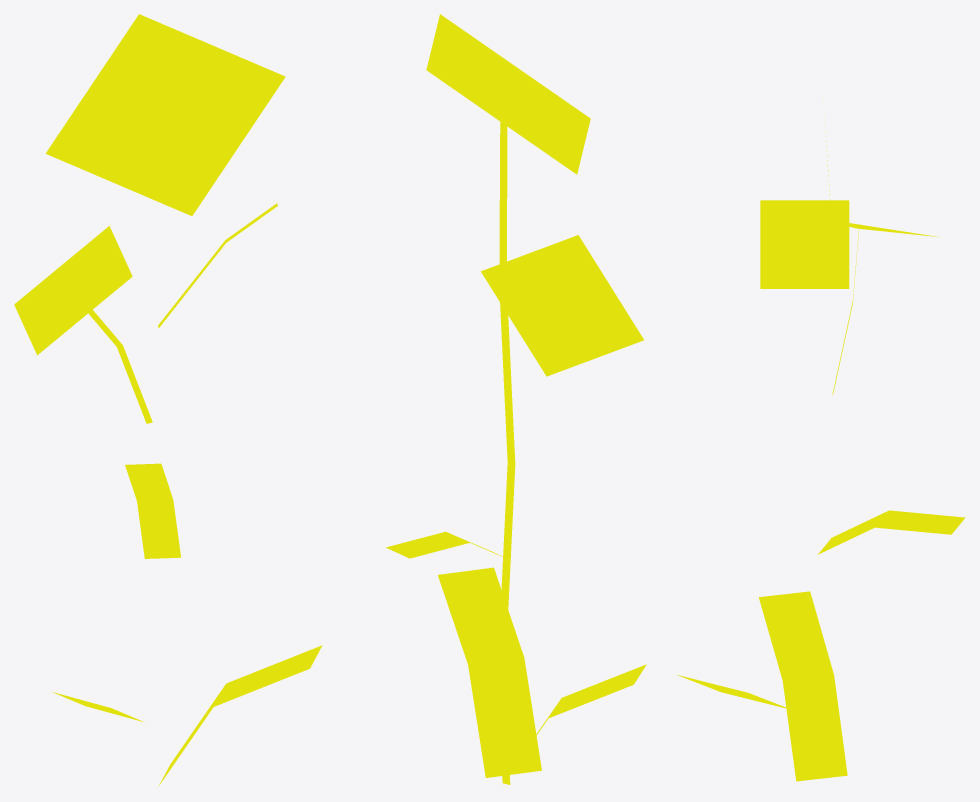
Rendered from Foliage_Flowers_White_Flower_WhiteLarge_Low.glb.
3 renders of one model, left to right at view 1: azimuth 30°, elevation 25°; view 2: azimuth 150°, elevation 25°; view 3: azimuth 270°, elevation 25°, orthographic. The views are drawn at different scales.
Parts seen in each view (by area): view 1: WhiteFlower0.Low; view 2: WhiteFlower0.Low; view 3: WhiteFlower0.Low.
Boxes of the visible parts, <box> form: WhiteFlower0.Low: <box>14,14,322,786</box>; WhiteFlower0.Low: <box>386,14,646,784</box>; WhiteFlower0.Low: <box>676,102,964,781</box>.
Size of the model in its own units: 0.0836 by 0.2178 by 0.0729.
Materials: 1 (1 with a texture image).
